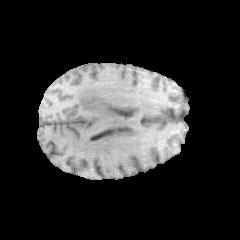glioma: (72, 83, 118, 115)
